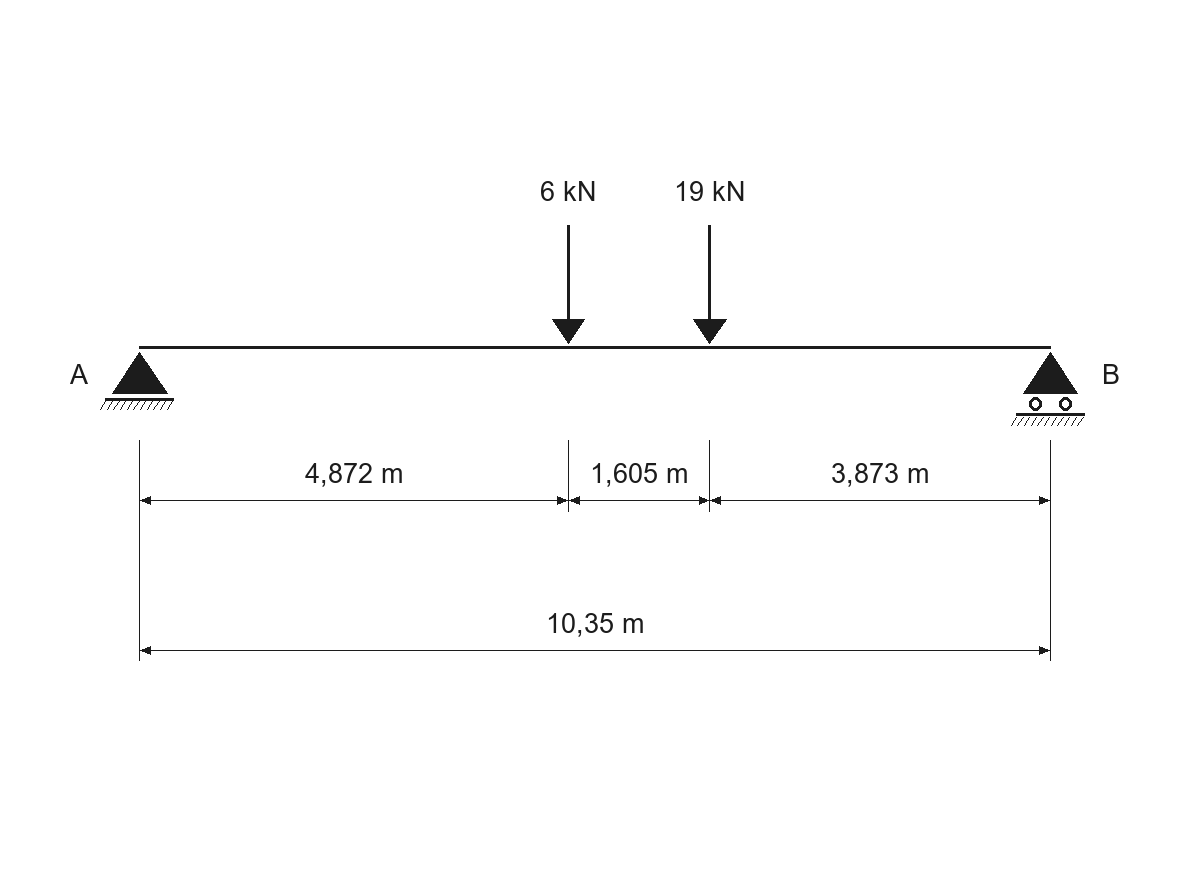pin_support: (100, 352, 174, 410)
point_load: (693, 225, 727, 344), (552, 225, 585, 344)
roller_support: (1011, 352, 1085, 426)
